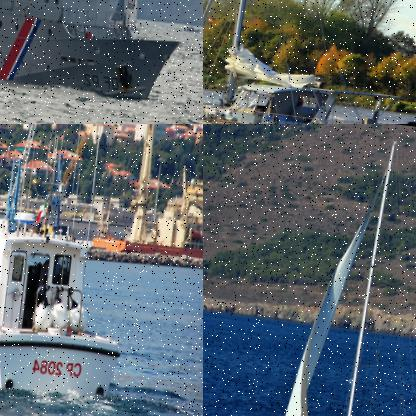Patrol Boat: (0, 124, 161, 405), (0, 0, 202, 108)
Sails Boat: (271, 131, 415, 415), (203, 0, 415, 123), (107, 0, 150, 34)
